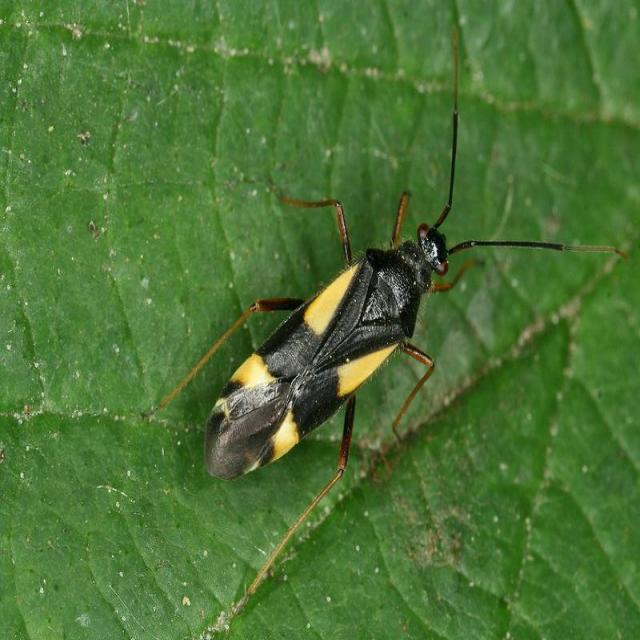Miridae-Adult-: (144, 33, 572, 535)
